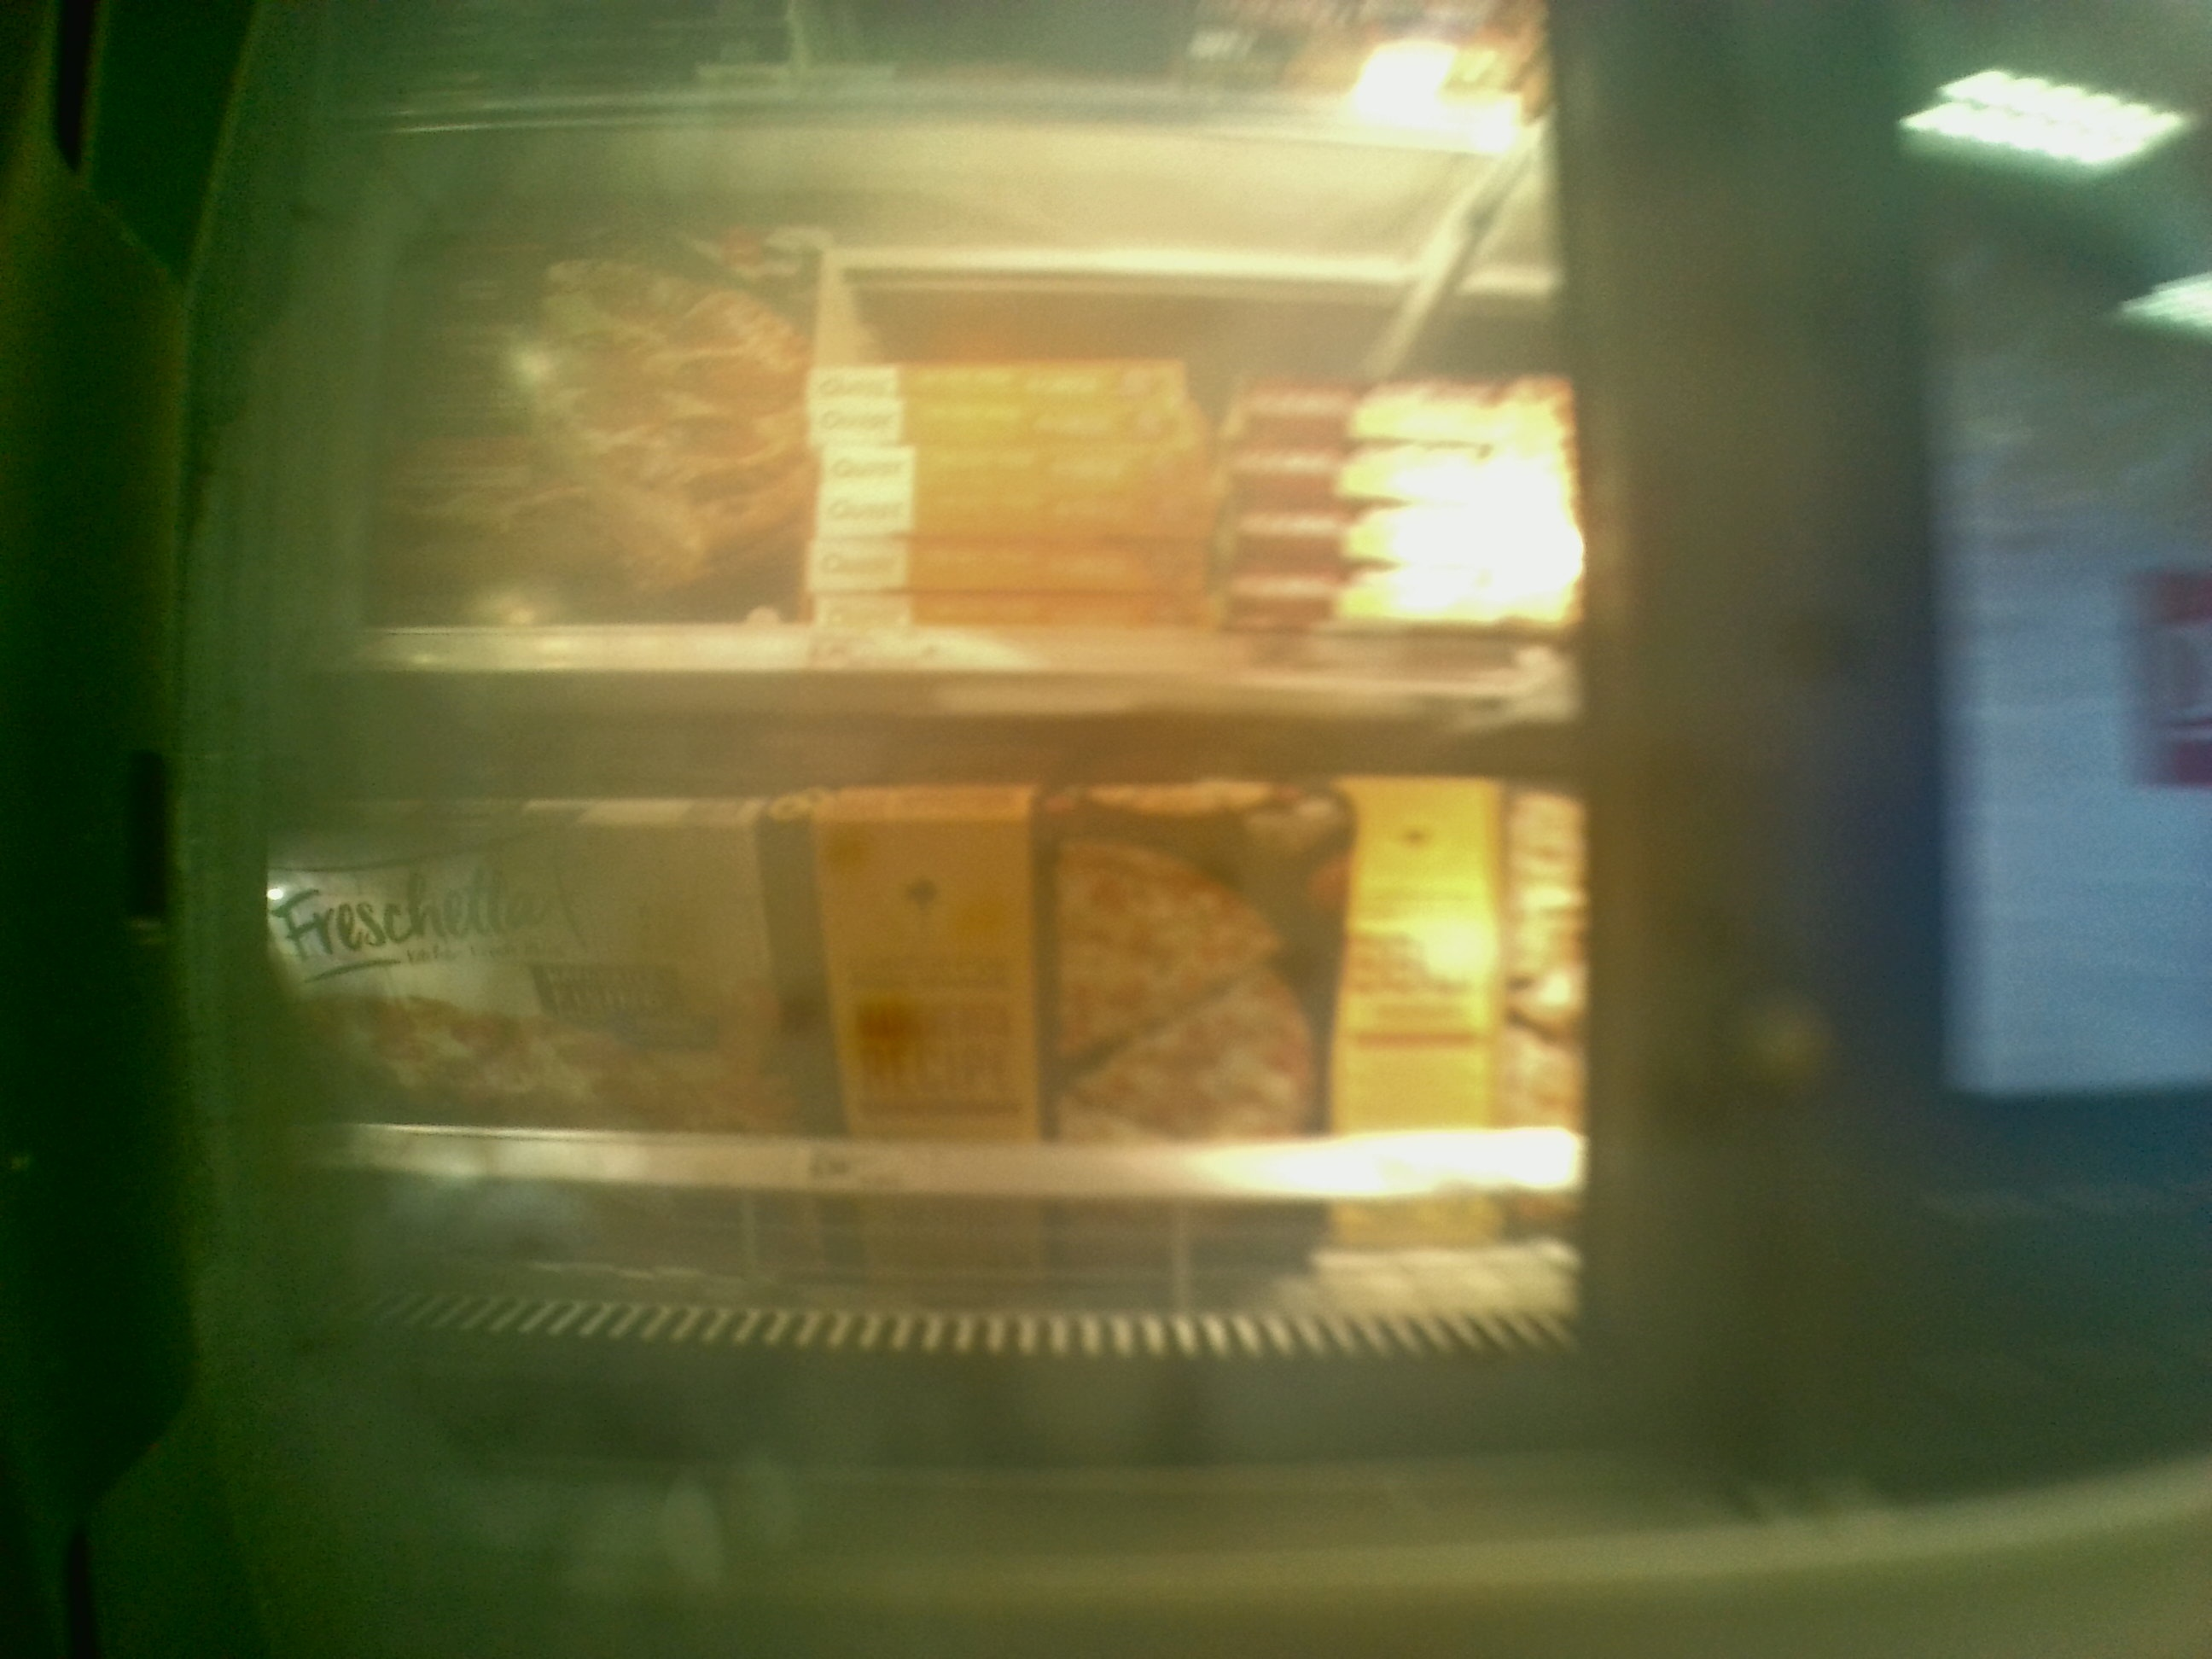pizza: (810, 782, 1329, 1126), (284, 798, 777, 1124), (390, 235, 789, 603), (806, 498, 1209, 547), (812, 446, 1209, 490), (813, 551, 1204, 584), (381, 33, 806, 59), (806, 404, 1176, 430), (798, 366, 1204, 387), (824, 601, 1209, 622)
